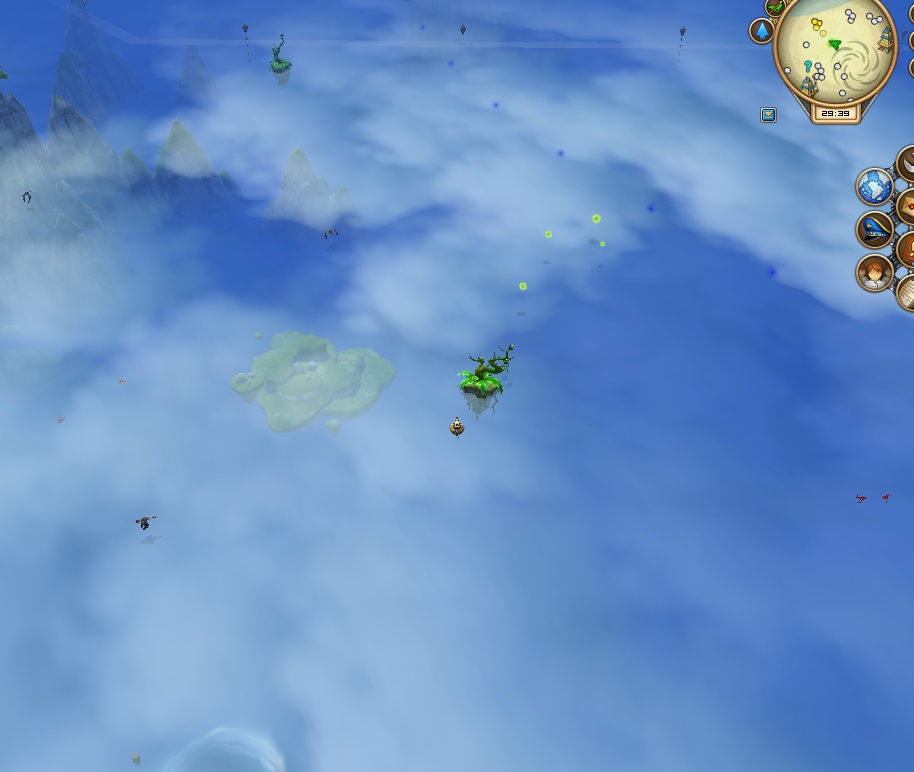dandelion-empty: (448, 342, 521, 409), (261, 24, 298, 83)
fluff: (590, 210, 604, 225), (518, 279, 529, 292), (597, 239, 607, 249), (544, 228, 553, 239)
